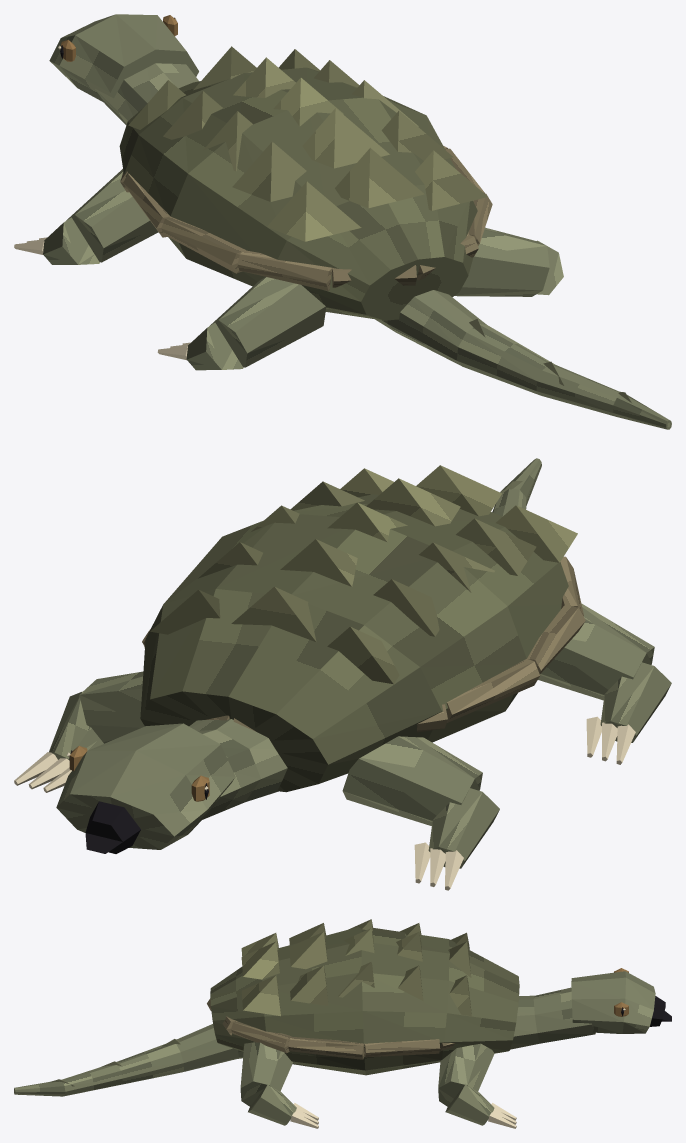
File: mon_turtle_snapping_common_baby.glb
The picture shows the model from 3 angles, top to bottom: view 1: azimuth 30°, elevation 25°; view 2: azimuth 150°, elevation 25°; view 3: azimuth 270°, elevation 25°; orthographic projection. The views are drawn at different scales.
Visible parts, largest first — view 1: closed_body; view 2: closed_body; view 3: closed_body.
Boxes of the visible parts, <box> form: closed_body: <box>14,14,671,429</box>; closed_body: <box>14,458,671,890</box>; closed_body: <box>14,919,671,1128</box>.
Size of the model in its own units: 0.0527 by 0.0288 by 0.1198.
1 material, 1 textured.
